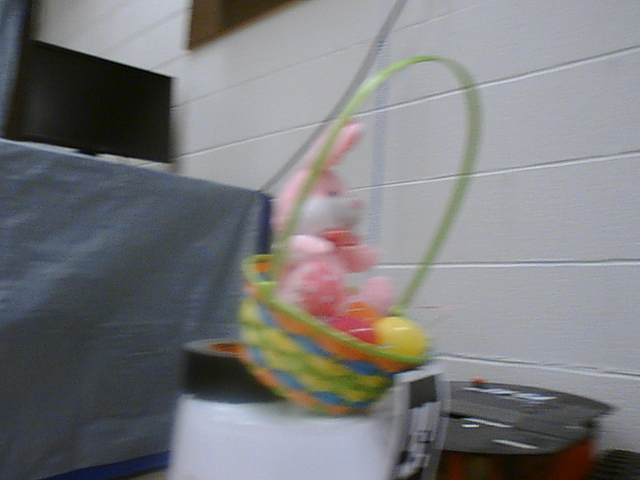bunny: (236, 54, 486, 418)
